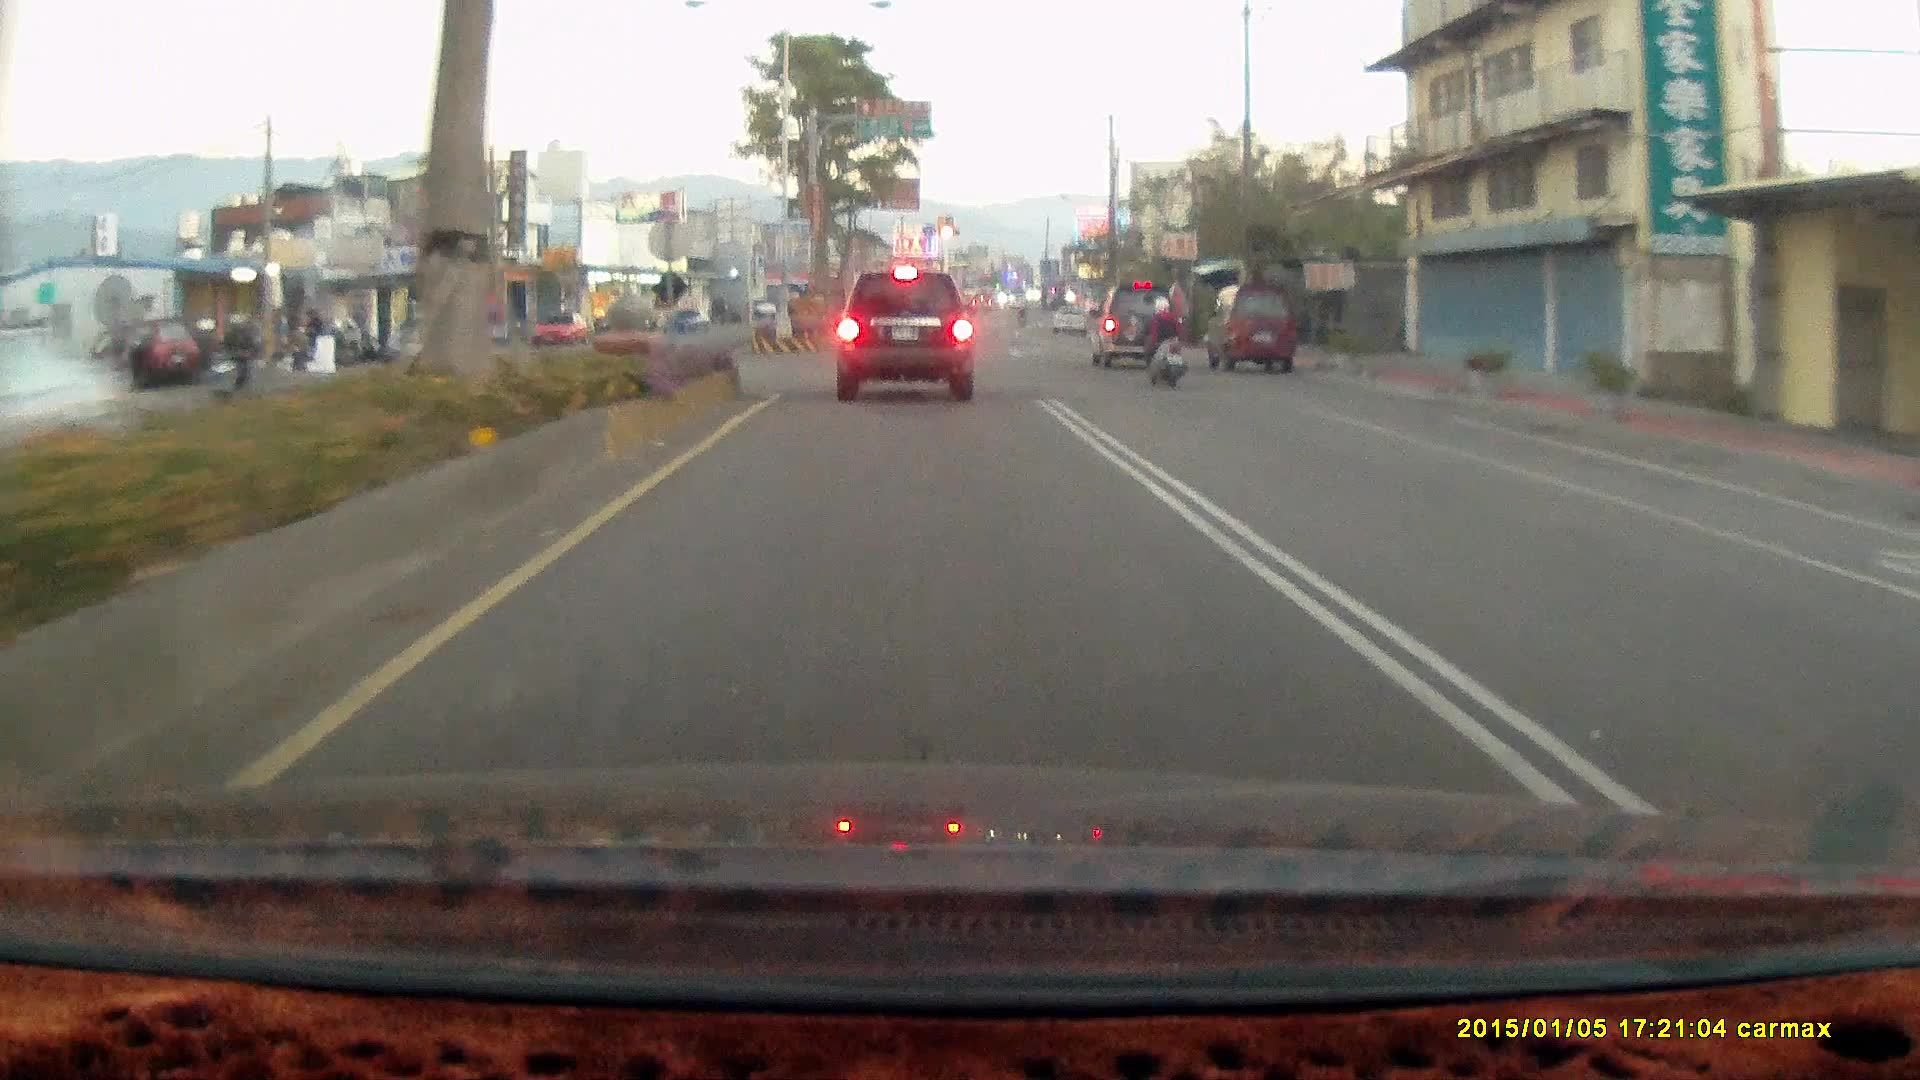rider: (1130, 288, 1198, 392), (194, 313, 253, 408), (1134, 292, 1185, 386)
vehicle: (831, 262, 986, 399), (834, 267, 973, 397), (1204, 282, 1297, 381), (1093, 281, 1191, 371), (1088, 280, 1179, 367), (1204, 282, 1293, 369), (380, 309, 471, 363)
